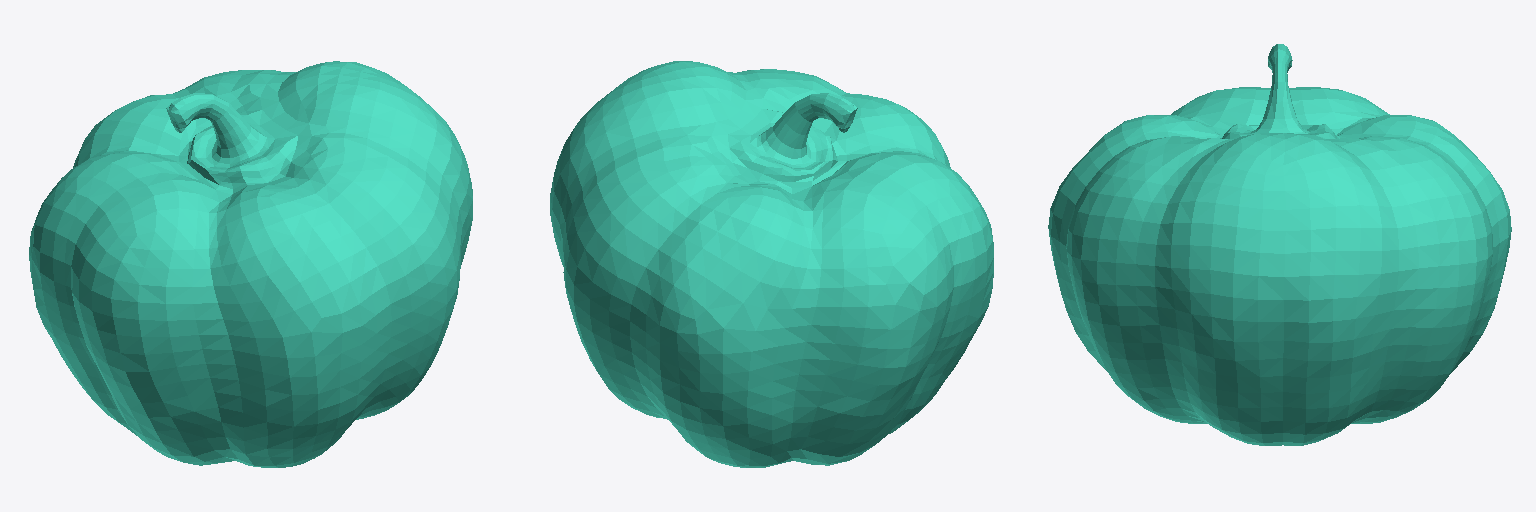
The model's file is PepperBell-Red2.obj.
3 views of the same model, side by side, from view 1: azimuth 30°, elevation 25°; view 2: azimuth 150°, elevation 25°; view 3: azimuth 270°, elevation 25° (orthographic).
Visible parts, largest first — view 1: PepperBell_Red2; view 2: PepperBell_Red2; view 3: PepperBell_Red2.
Part boxes in pixels (x1,y1,x2,y2): PepperBell_Red2: (29,61,472,467); PepperBell_Red2: (550,61,993,467); PepperBell_Red2: (1048,44,1511,445).
Bounding box in the file's own units: 4.11 × 3.61 × 4.28.